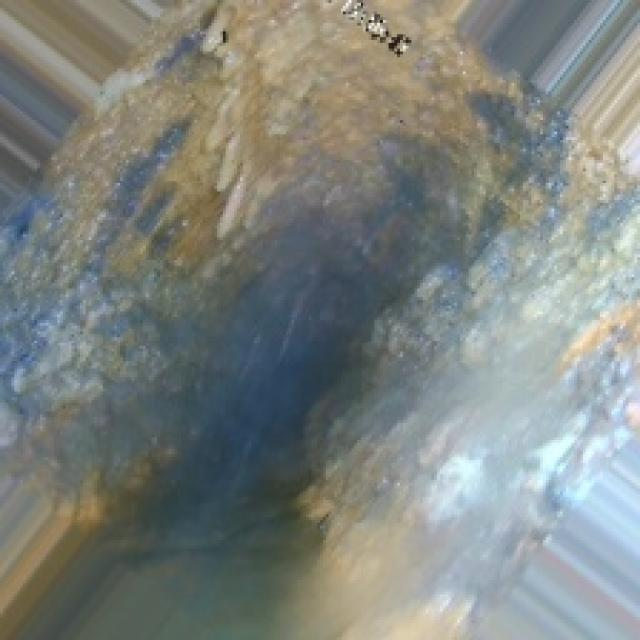encrustation: (137, 43, 543, 477)
